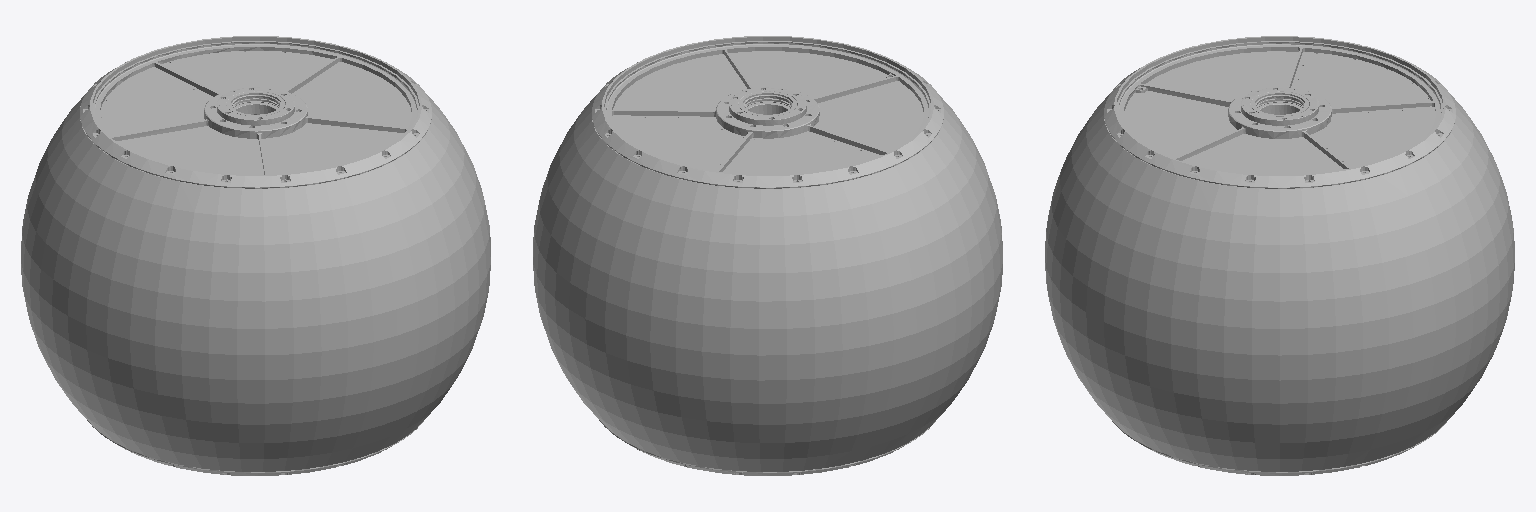
The robot description file, URDF, robot "Rotunbot":
<?xml version="1.0" encoding="utf-8"?>
<!-- This URDF was automatically created by SolidWorks to URDF Exporter! Originally created by [author] ([email redacted]) 
     Commit Version: 1.6.0-1-g15f4949  Build Version: 1.6.7594.29634
     For more information, please see http://wiki.ros.org/sw_urdf_exporter -->
<robot
  name="Rotunbot">
  <link
    name="base_link">
    <inertial>
      <origin
        xyz="-0.0821 0.002235 0.002452"
        rpy="0 0 0" />
      <mass
        value="30.225" />
      <inertia
        ixx="1.1395"
        ixy="0.002423"
        ixz="0.002018"
        iyy="1.3014"
        iyz="0.003856"
        izz="1.8027" />
    </inertial>
    <visual>
      <origin
        xyz="0 0 0"
        rpy="-1.571 0 0" />
      <geometry>
        <mesh
          filename="../meshes/base_link.STL" />
      </geometry>
      <material
        name="">
        <color
          rgba="0.75294 0.75294 0.75294 1" />
      </material>
    </visual>
    <collision>
      <origin
        xyz="0 0 0"
        rpy="0 0 0" />
      <geometry>
        <cylinder length="0.005" radius="0.02"/>
      </geometry>
    </collision>
  </link>
  <link
    name="link1">
    <inertial>
      <origin
        xyz="0.000176 -0.000666 -0.001"
        rpy="0 0 0" />
      <mass
        value="27.834" />
      <inertia
        ixx="2.3603"
        ixy="0.000592"
        ixz="4.36E-05"
        iyy="1.8803"
        iyz="0.000106"
        izz="2.3606" />
    </inertial>
    <visual>
      <origin
        xyz="0 0 0"
        rpy="-1.571 0 0" />
      <geometry>
        <mesh
          filename="../meshes/link1.STL" />
      </geometry>
      <material
        name="">
        <color
          rgba="0.75294 0.75294 0.75294 1" />
      </material>
    </visual>
    <collision>
      <origin
        xyz="0 0 0"
        rpy="0 0 0" />
      <geometry>
        <sphere radius="0.4"/>
      </geometry>
    </collision>
  </link>
  <joint
    name="joint1"
    type="continuous">
    <origin
      xyz="0 0 0"
      rpy="0 0.00011905 0" />
    <parent
      link="base_link" />
    <child
      link="link1" />
    <axis
      xyz="0 1 0" />
    <limit
      lower="-0.5236"
      upper="0.5236"
      effort="50"
      velocity="10" />
  </joint>
  <link
    name="link2">
    <inertial>
      <origin
        xyz="0.004257 0.000289 -0.270243"
        rpy="0 0 0" />
      <mass
        value="82.8" />
      <inertia
        ixx="6.9568"
        ixy="0.004242"
        ixz="-0.005461"
        iyy="7.9816"
        iyz="-0.000712"
        izz="1.7644" />
    </inertial>
    <visual>
      <origin
        xyz="0 0 0"
        rpy="-1.571 0 0" />
      <geometry>
        <mesh
          filename="../meshes/link2.STL" />
      </geometry>
      <material
        name="">
        <color
          rgba="0.75294 0.75294 0.75294 1" />
      </material>
    </visual>
    <collision>
      <origin
        xyz="0 0 0"
        rpy="0 0 0" />
      <geometry>
        <cylinder length="0.005" radius="0.02"/>
      </geometry>
    </collision>
  </link>
  <joint
    name="joint2"
    type="revolute">
    <origin
      xyz="0 0 0"
      rpy="0 0 0" />
    <parent
      link="base_link" />
    <child
      link="link2" />
    <axis
      xyz="-1 0 0" />
    <limit
      lower="-0.5236"
      upper="0.5236"
      effort="500"
      velocity="50" />
  </joint>
</robot>

--- What the picture shows (computed from the rendered views, not written in the file) ---
3 views of the same robot in one strip: view 1: azimuth 30°, elevation 25°; view 2: azimuth 150°, elevation 25°; view 3: azimuth 270°, elevation 25° (orthographic).
Robot: Rotunbot — 3 links, 2 joints (1 revolute, 1 continuous); root link base_link; default pose: all joints at 0.
Visible links, largest first — view 1: link1; view 2: link1; view 3: link1.
Link boxes in pixels (x1=…): link1: x1=21, y1=36, x2=490, y2=475; link1: x1=533, y1=36, x2=1002, y2=475; link1: x1=1045, y1=36, x2=1514, y2=475.
Bounding box of the posed robot: 0.8 × 0.8 × 0.57 m (x, y, z).
Meshes: 3 distinct files referenced, 1 mesh visuals loaded (1 binary STL); not drawn: 2 (reference not matched to a file when rendering).